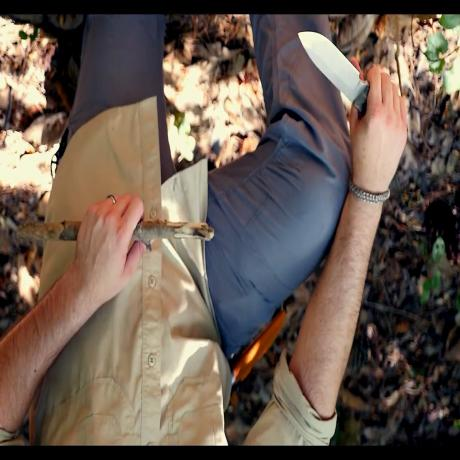1: (0, 0, 410, 460)
weapon: (296, 28, 371, 124)
